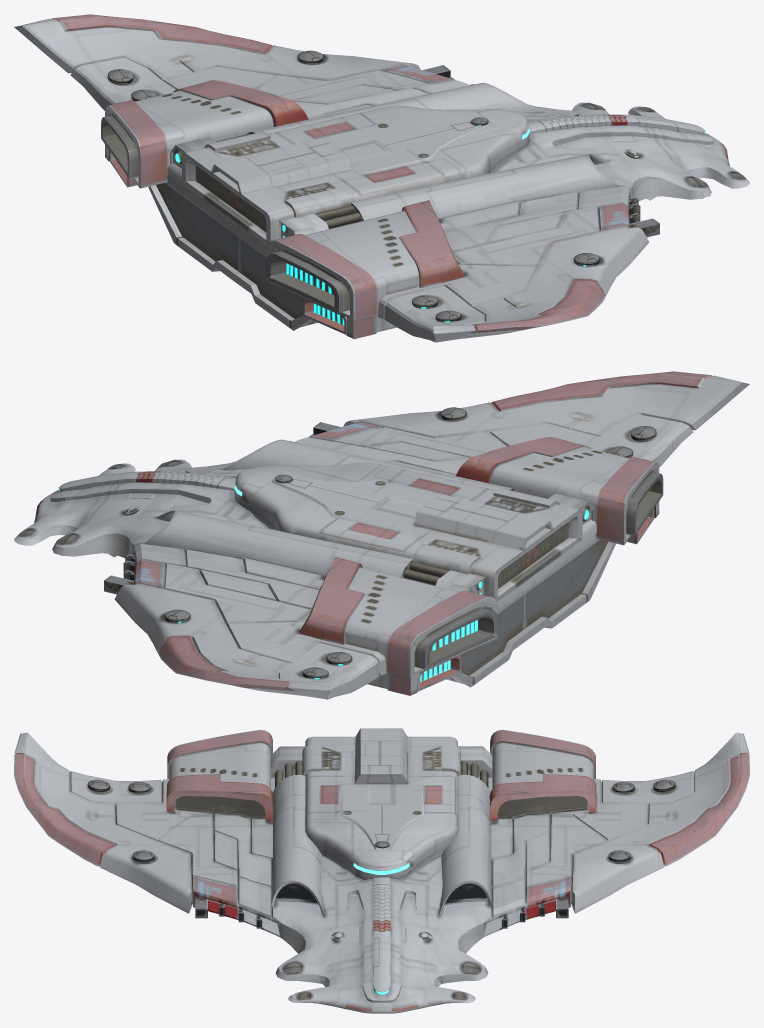
The model's file is manta.glb.
The picture shows the model from 3 angles, top to bottom: view 1: azimuth 30°, elevation 25°; view 2: azimuth 150°, elevation 25°; view 3: azimuth 270°, elevation 25°; orthographic projection. The views are drawn at different scales.
Visible parts, largest first — view 1: ST_Tau_Manta; view 2: ST_Tau_Manta; view 3: ST_Tau_Manta.
Boxes of the visible parts, x1=… form: ST_Tau_Manta: x1=14, y1=14, x2=749, y2=342; ST_Tau_Manta: x1=14, y1=371, x2=749, y2=699; ST_Tau_Manta: x1=14, y1=728, x2=749, y2=1013.
Bounding box in the file's own units: 0.9436 × 0.2144 × 1.34.
1 material, 1 textured.
